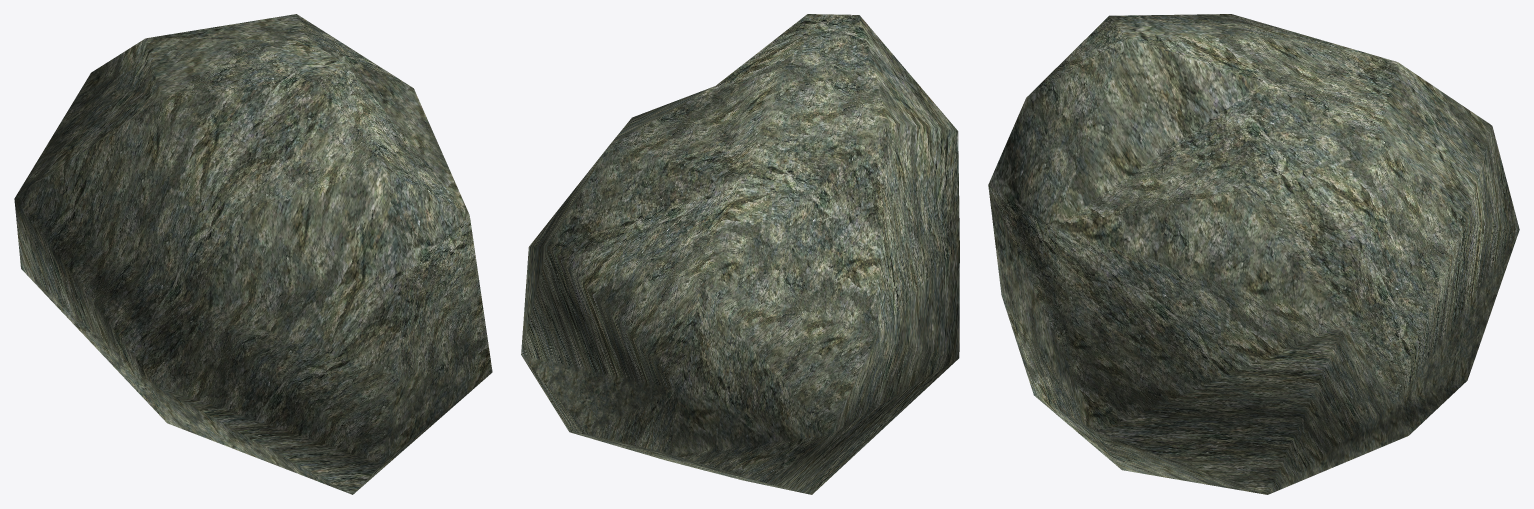
The model's file is mtns_rock_moss_a3_l1.fbx.
The picture shows the model from 3 angles, left to right: view 1: azimuth 30°, elevation 25°; view 2: azimuth 150°, elevation 25°; view 3: azimuth 270°, elevation 25°; orthographic projection.
Parts seen in each view (by area): view 1: mesh_node; view 2: mesh_node; view 3: mesh_node.
Part boxes in pixels (x1,y1,x2,y2): mesh_node: (14,14,492,494); mesh_node: (521,14,959,494); mesh_node: (988,14,1519,494).
Size of the model in its own units: 1.6 by 1.78 by 1.95.
Materials: 1 (1 with a texture image).
